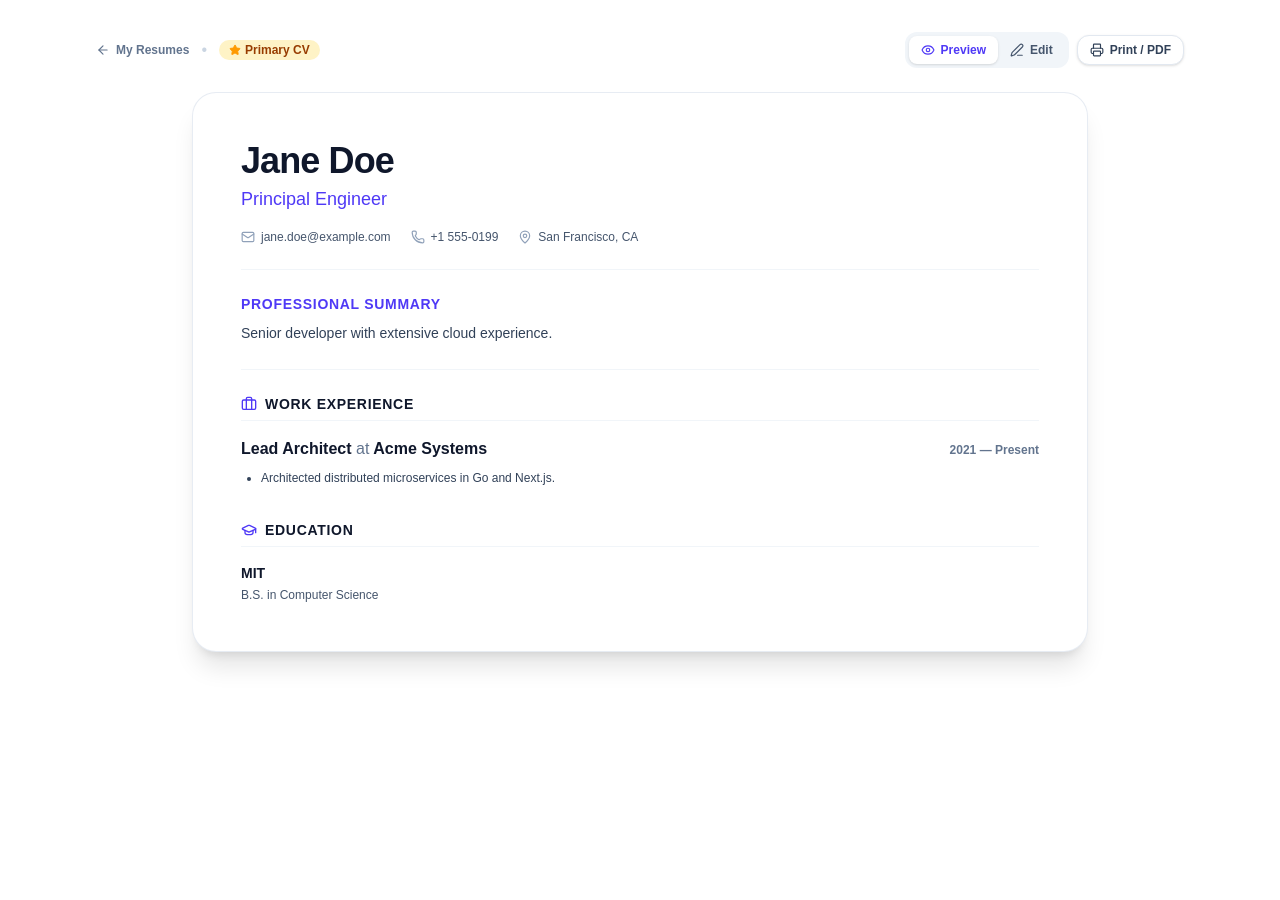
Test case: CV detail printing › renders the CV preview before opening print from edit mode
This screenshot has width=1280, height=900.
Click the button with test id "toggle-edit-mode" at point(1031, 50), box [998,36,1065,64]
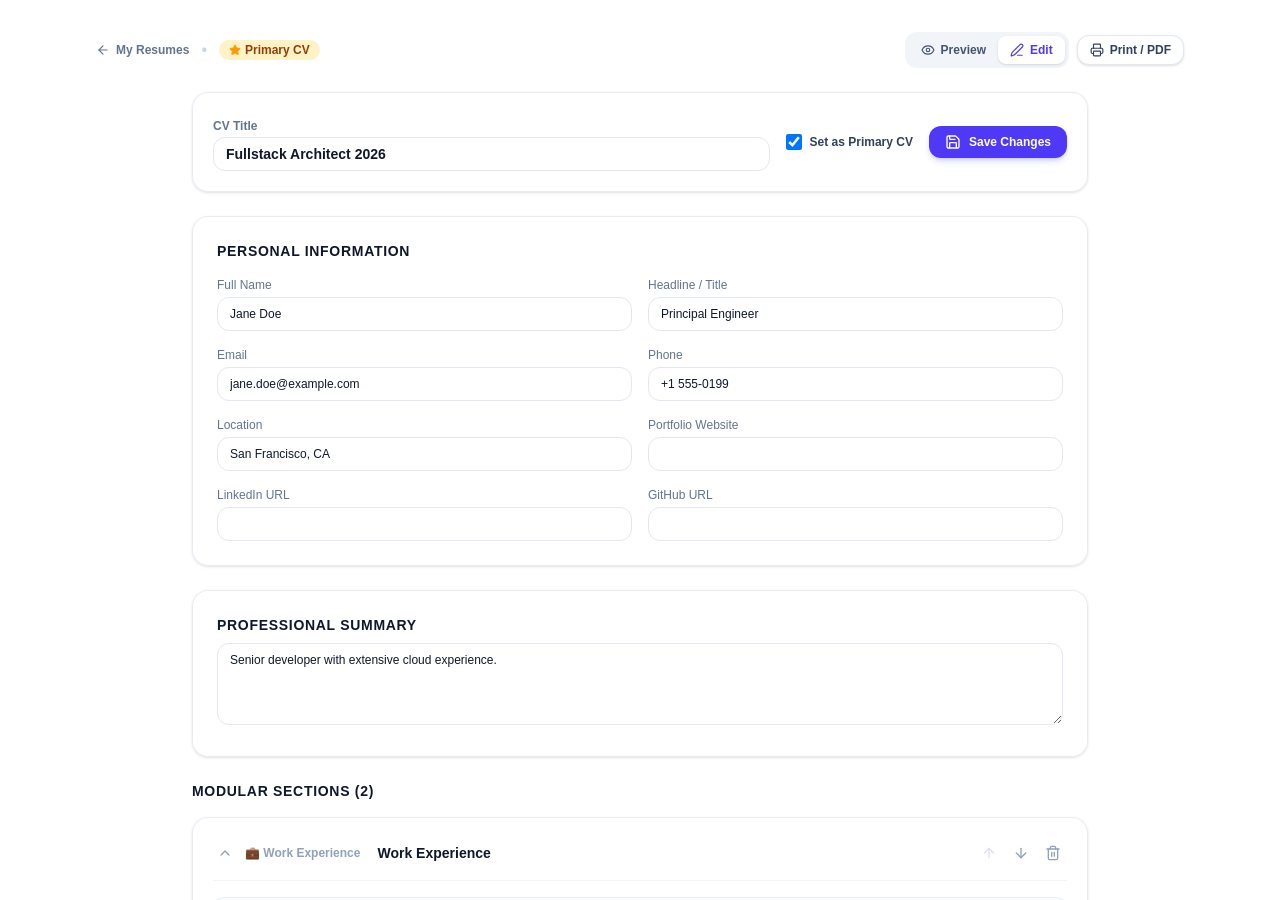
Expected: the element with test id "cv-viewer" is gone
Click the button with test id "print-cv-button" at point(1130, 50), box [1077,35,1184,65]
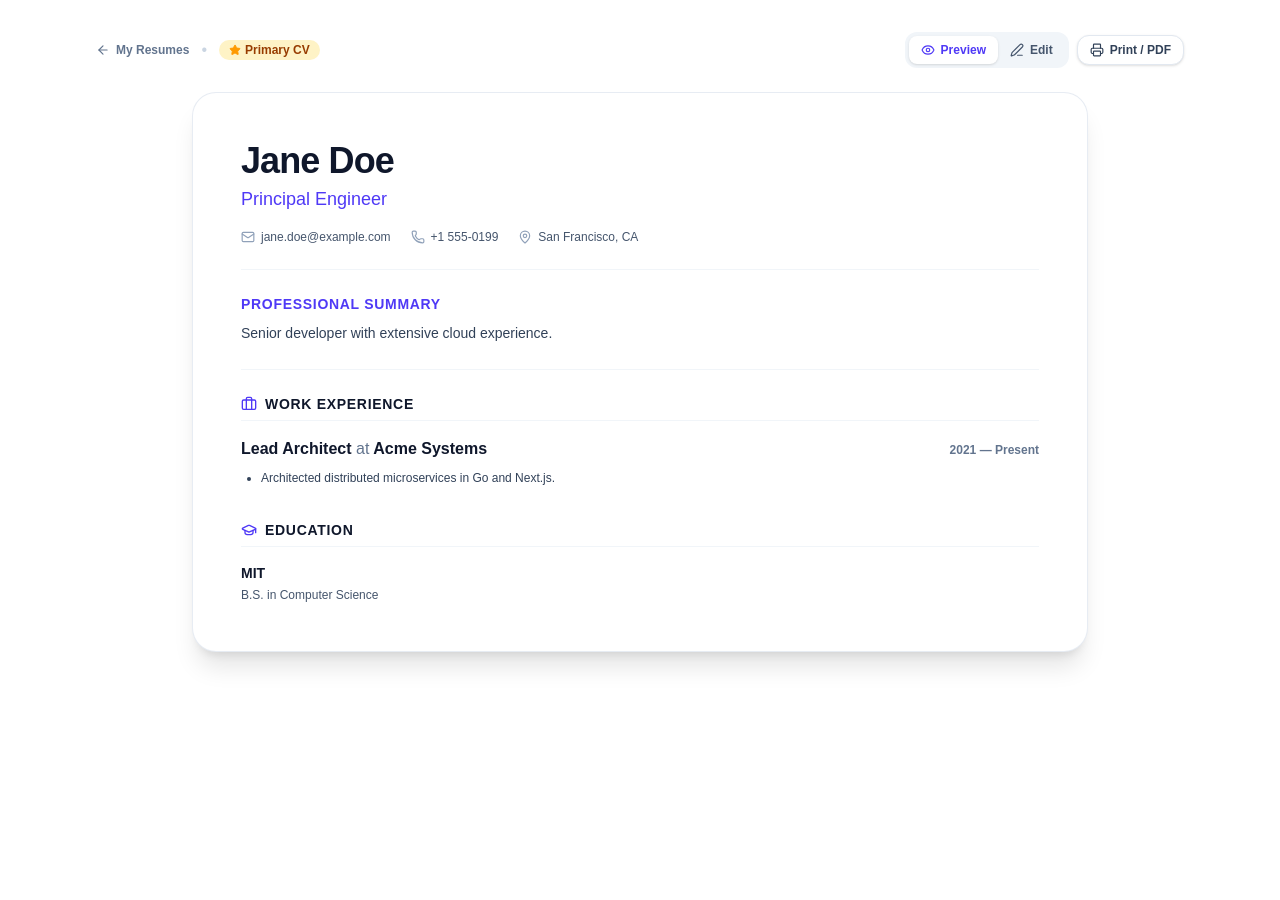
Expected: the element with test id "cv-viewer" is shown, [192,92,1088,652]
